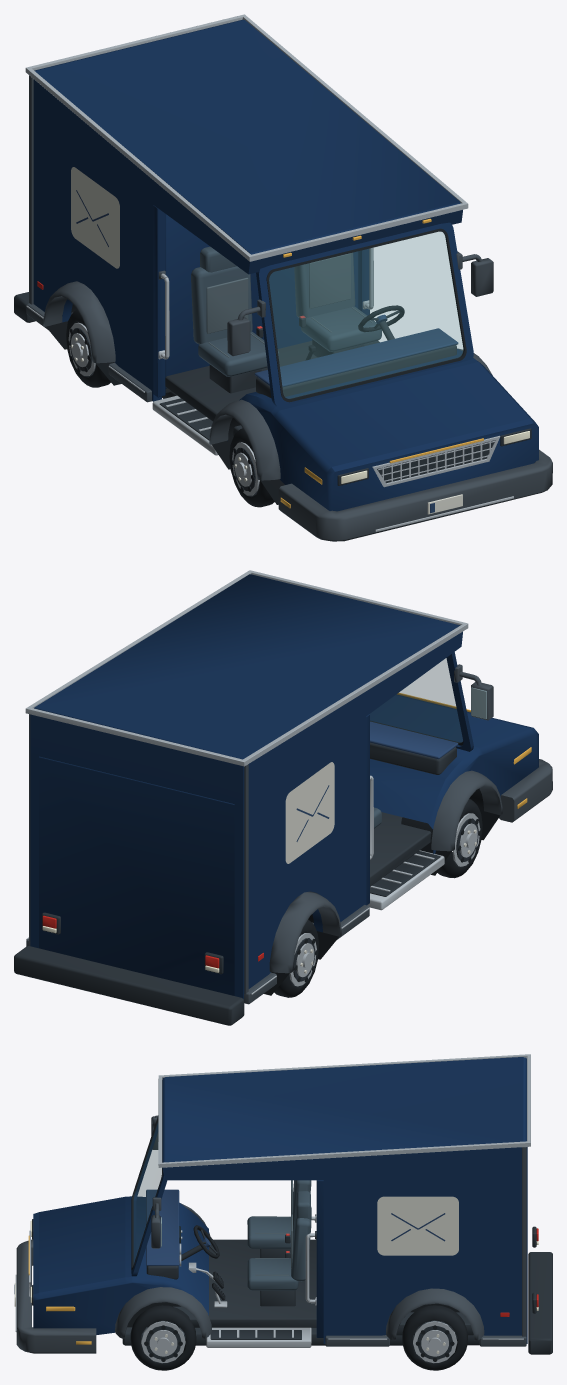
The model's file is mail_truck.glb.
The picture shows the model from 3 angles, top to bottom: view 1: azimuth 30°, elevation 25°; view 2: azimuth 150°, elevation 25°; view 3: azimuth 270°, elevation 25°; orthographic projection. The views are drawn at different scales.
Visible parts, largest first — view 1: TruckBody, Wheel_Front_L, Wheel_Rear_L; view 2: TruckBody, Wheel_Front_L, Wheel_Rear_L; view 3: TruckBody, Wheel_Front_R, Wheel_Rear_R.
Part boxes in pixels (x1,y1,x2,y2): TruckBody: [14, 14, 552, 541]; Wheel_Front_L: [229, 428, 274, 507]; Wheel_Rear_L: [66, 309, 110, 387]; TruckBody: [14, 570, 552, 1025]; Wheel_Front_L: [437, 799, 482, 878]; Wheel_Rear_L: [274, 919, 319, 997]; TruckBody: [14, 1054, 552, 1354]; Wheel_Front_R: [130, 1305, 196, 1370]; Wheel_Rear_R: [402, 1305, 467, 1370].
Bounding box in the file's own units: 3.03 × 3.06 × 6.5.
